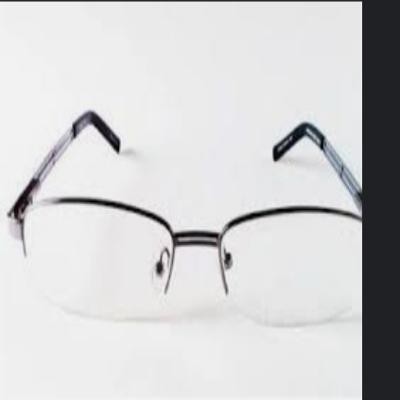glasses: (10, 108, 363, 333)
